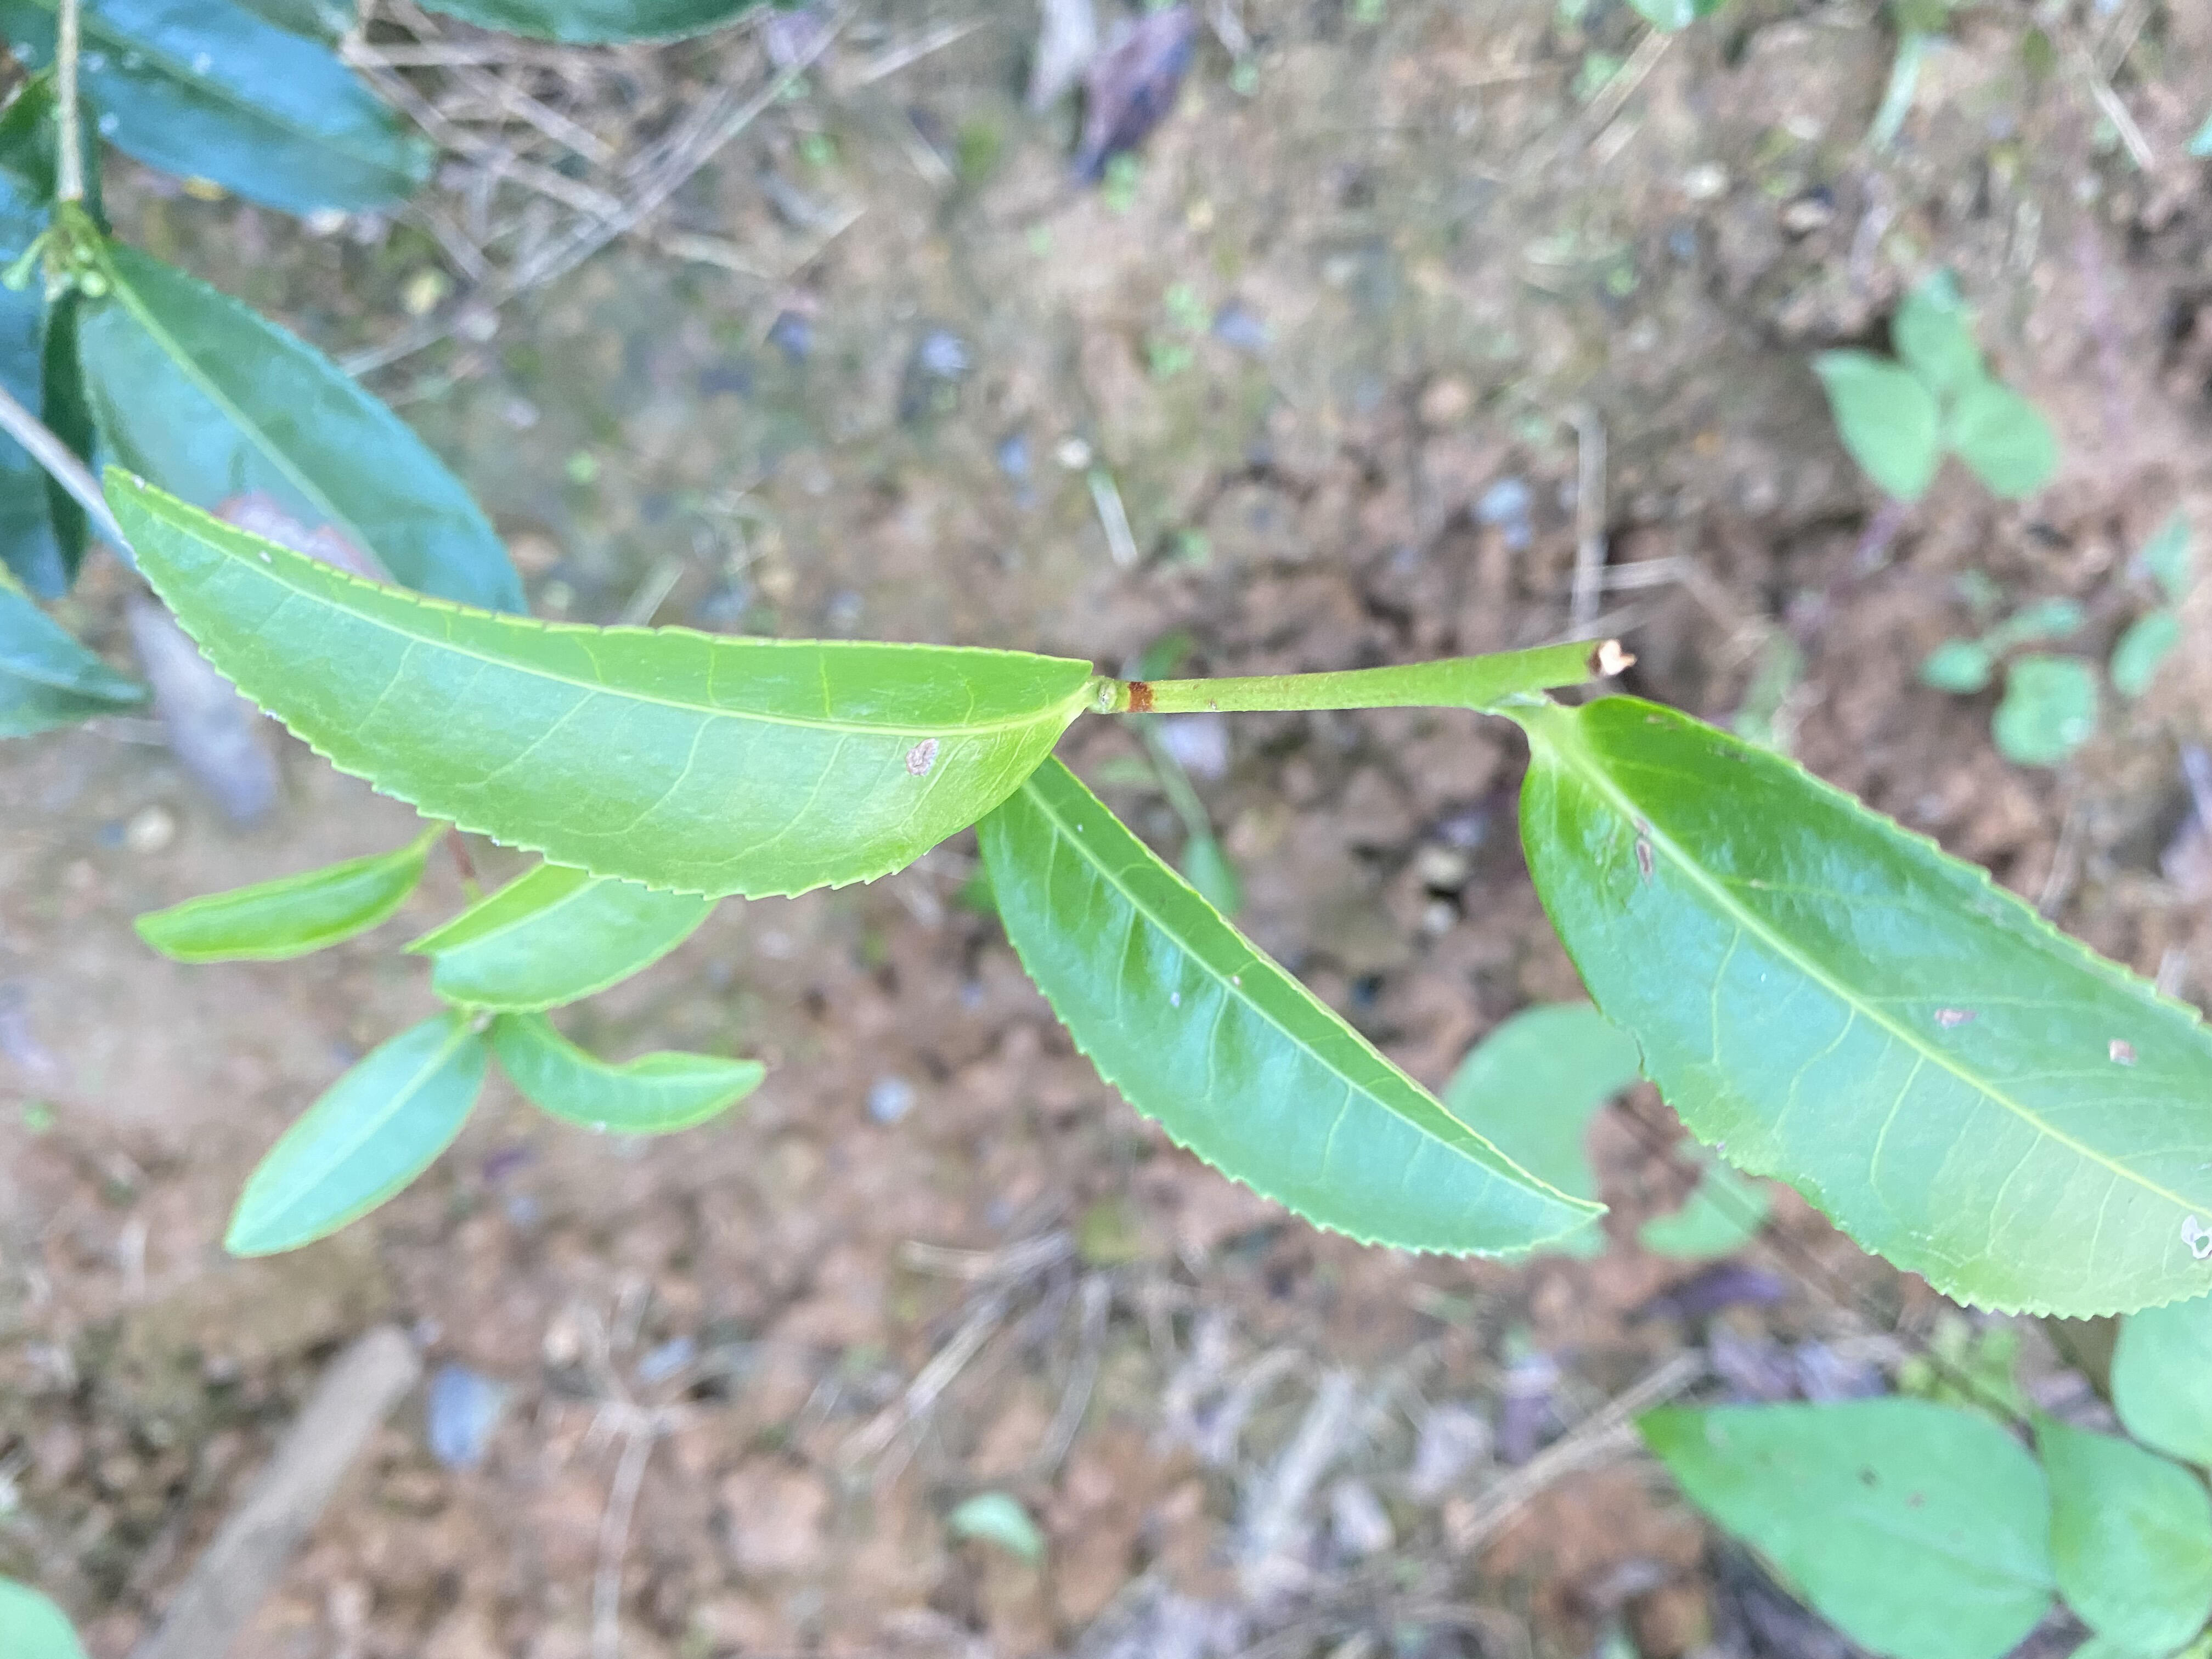tanju_low: (101, 462, 1094, 901), (1515, 695, 2210, 1323)
